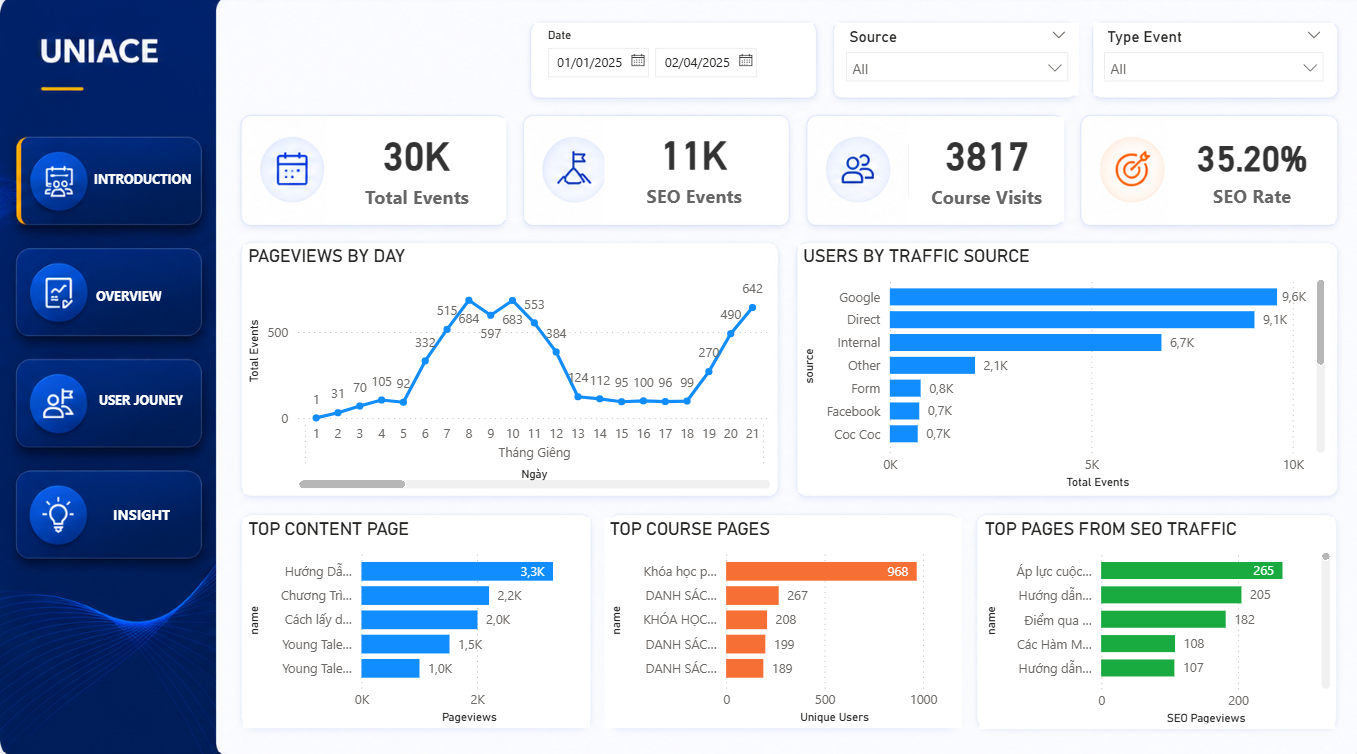

This screenshot's page, from the dashboard's own definition file:
{"tool":"powerbi","page":{"name":"Overview","canvas":[1280,720],"ordinal":1},"visuals":[{"type":"lineChart","title":"PAGEVIEWS BY DAY","fields":{"Category":["public fact_events.event_date.Biến động.Phân cấp ngày tháng.Tháng","public fact_events.event_date.Biến động.Phân cấp ngày tháng.Ngày"],"Y":["Bảng.Total Events"]},"box":[229,235,500,234],"z":0},{"type":"advanceCardE03760C5AB684758B56AA29F9E6C257B","fields":{"mainMeasure":["Bảng.SEO Events"]},"box":[568.3,116.7,168.3,95],"z":1000},{"type":"clusteredBarChart","title":"USERS BY TRAFFIC SOURCE","fields":{"Category":["public dim_source.source"],"Y":["Bảng.Total Events"]},"box":[750,235,500,233.3],"z":2000},{"type":"clusteredBarChart","title":"TOP CONTENT PAGE","fields":{"Category":["public dim_page.name"],"Y":["Bảng.Pageviews"]},"box":[228,492,326,198],"z":3000},{"type":"clusteredBarChart","title":"TOP COURSE PAGES","fields":{"Category":["public dim_page.name"],"Y":["Bảng.Unique Users"]},"box":[568,492,336,198],"z":4000},{"type":"clusteredBarChart","title":"TOP PAGES FROM SEO TRAFFIC","fields":{"Category":["public dim_page.name"],"Y":["Bảng.SEO Pageviews"]},"box":[920,491.4,334.3,198.6],"z":5000},{"type":"advanceCardE03760C5AB684758B56AA29F9E6C257B","fields":{"mainMeasure":["Bảng.Total Events"]},"box":[307.8,116.7,168.9,95.6],"z":6000},{"type":"advanceCardE03760C5AB684758B56AA29F9E6C257B","fields":{"mainMeasure":["Bảng.Course Visits"]},"box":[854.3,115.7,145.7,98.6],"z":7000},{"type":"advanceCardE03760C5AB684758B56AA29F9E6C257B","fields":{"mainMeasure":["Bảng.SEO Rate"]},"box":[1098.3,116.7,156.7,98.3],"z":8000},{"type":"slicer","fields":{"Values":["public fact_events.event_date"]},"box":[501.2,26.2,262.5,68.8],"z":9000},{"type":"slicer","fields":{"Values":["public dim_source.source"]},"box":[785,26.2,228.8,68.8],"z":10000},{"type":"slicer","fields":{"Values":["public fact_events.event_type"]},"box":[1027.5,26.2,226.2,68.8],"z":11000},{"type":"actionButton","box":[71.1,245.6,101.1,77.8],"z":12000},{"type":"actionButton","box":[81.1,344.4,101.1,75.6],"z":13000},{"type":"actionButton","box":[83.3,136.7,101.7,75],"z":14000},{"type":"actionButton","box":[83.3,468.3,100,40],"z":15000}]}

Visuals, with their boxes in screenshot pixels (x1, y1, x2, y2), scaled from the page's 1280x720 canvas onto the 1357x754 screenshot:
"PAGEVIEWS BY DAY" lineChart: BBox(243, 246, 773, 491)
advanceCardE03760C5AB684758B56AA29F9E6C257B - Bảng.SEO Events: BBox(602, 122, 781, 222)
"USERS BY TRAFFIC SOURCE" clusteredBarChart: BBox(795, 246, 1325, 490)
"TOP CONTENT PAGE" clusteredBarChart: BBox(242, 515, 587, 723)
"TOP COURSE PAGES" clusteredBarChart: BBox(602, 515, 958, 723)
"TOP PAGES FROM SEO TRAFFIC" clusteredBarChart: BBox(975, 515, 1330, 723)
advanceCardE03760C5AB684758B56AA29F9E6C257B - Bảng.Total Events: BBox(326, 122, 505, 222)
advanceCardE03760C5AB684758B56AA29F9E6C257B - Bảng.Course Visits: BBox(906, 121, 1060, 224)
advanceCardE03760C5AB684758B56AA29F9E6C257B - Bảng.SEO Rate: BBox(1164, 122, 1330, 225)
slicer - public fact_events.event_date: BBox(531, 27, 810, 99)
slicer - public dim_source.source: BBox(832, 27, 1075, 99)
slicer - public fact_events.event_type: BBox(1089, 27, 1329, 99)
actionButton: BBox(75, 257, 183, 339)
actionButton: BBox(86, 361, 193, 440)
actionButton: BBox(88, 143, 196, 222)
actionButton: BBox(88, 490, 194, 532)
